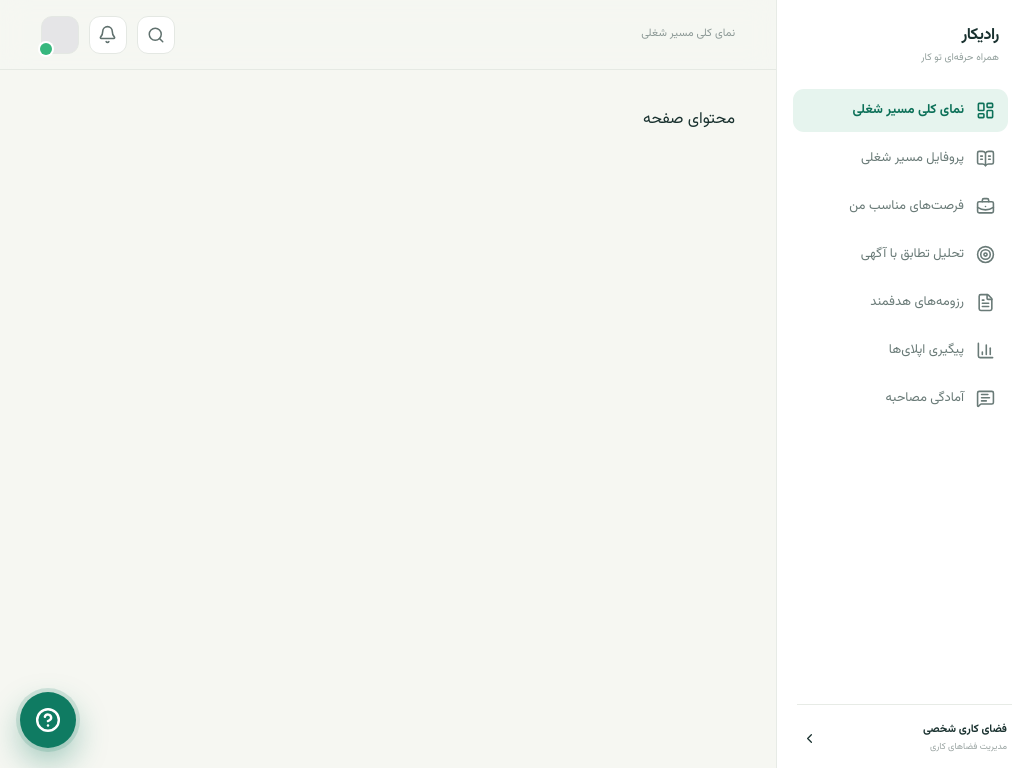
Test: PanelShell behavior › closes the account menu from Escape
Click the button named "منوی حساب کاربری".
click(60, 34)  # box [41,16,79,54]
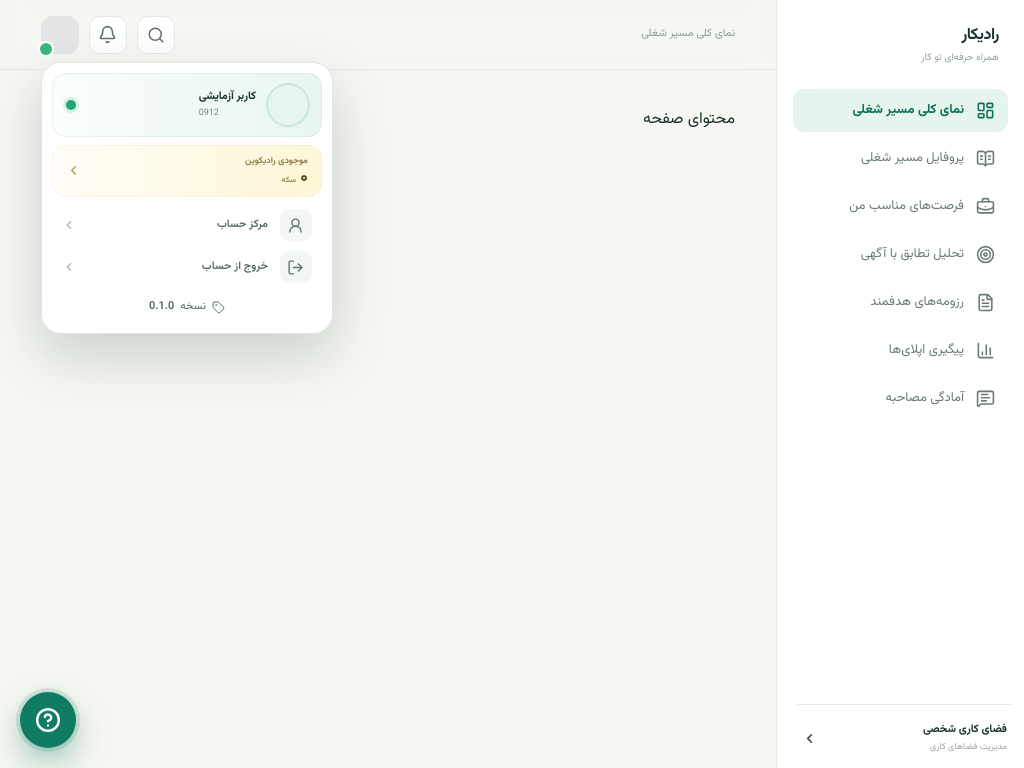
Now the text "خروج از حساب" is shown, box [202,258,268,275]
Press Escape
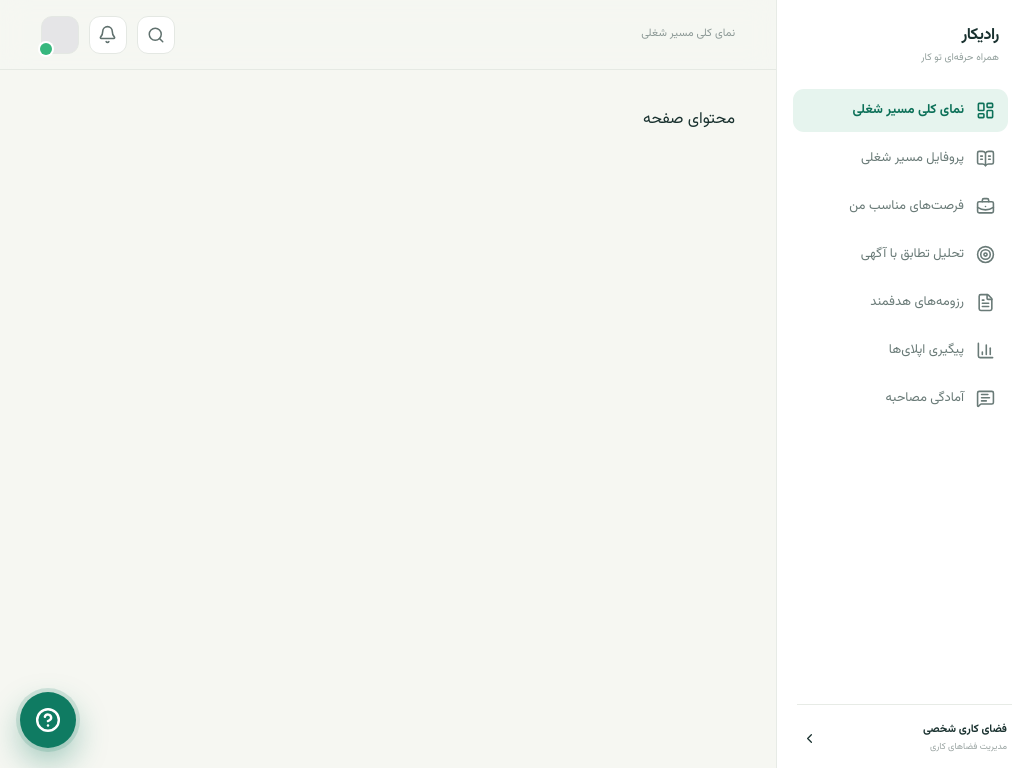
Now the button "خروج از حساب" is gone
